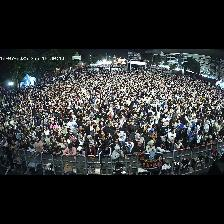person: (99, 144, 112, 169), (1, 138, 28, 150), (85, 143, 96, 160), (132, 141, 145, 155), (140, 116, 150, 134), (167, 129, 176, 149), (63, 144, 76, 157), (50, 143, 62, 156), (112, 146, 124, 159), (155, 140, 168, 152), (83, 134, 94, 148), (160, 122, 168, 141), (121, 143, 130, 159), (146, 140, 156, 154), (95, 135, 103, 151), (67, 116, 75, 132), (133, 134, 144, 145), (35, 137, 43, 152), (126, 137, 134, 152), (76, 133, 85, 146), (111, 139, 121, 150), (176, 130, 186, 141), (145, 132, 155, 143), (58, 137, 67, 149), (121, 123, 130, 135), (83, 120, 90, 135), (189, 127, 196, 142), (175, 140, 185, 150), (66, 130, 77, 139), (130, 120, 139, 131), (46, 132, 53, 146), (105, 133, 113, 145), (188, 138, 197, 148), (56, 131, 65, 141), (50, 120, 57, 132), (119, 131, 125, 145), (19, 141, 28, 150), (103, 122, 111, 132), (29, 143, 35, 155), (41, 132, 46, 146), (60, 125, 67, 135), (71, 137, 77, 148), (197, 131, 202, 144), (21, 134, 28, 143), (205, 136, 212, 145), (111, 130, 118, 139), (9, 140, 15, 150), (175, 119, 180, 131), (77, 147, 84, 155), (36, 128, 41, 139), (204, 121, 209, 131), (15, 142, 20, 152), (130, 131, 136, 139), (43, 126, 49, 134), (212, 136, 218, 144), (202, 132, 208, 139), (51, 138, 58, 144), (67, 135, 72, 143)
